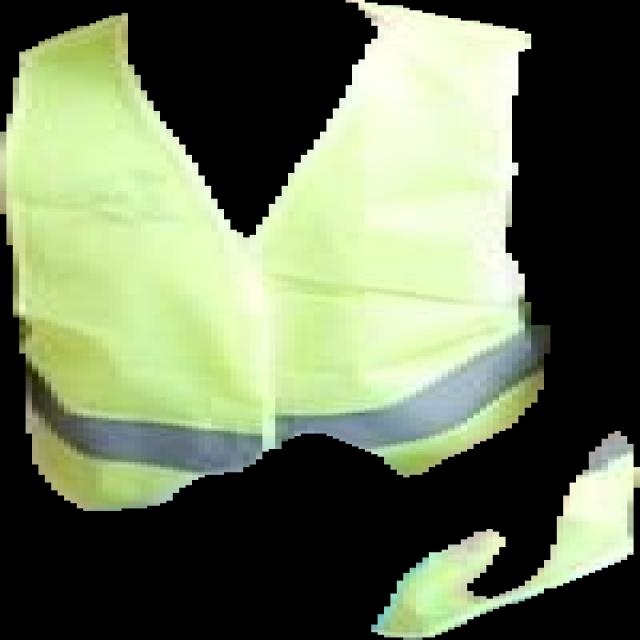Colete: (0, 0, 550, 510)
